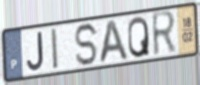A: (97, 18, 131, 66)
I: (50, 26, 60, 72)
J: (26, 30, 46, 73)
Q: (127, 15, 151, 60)
R: (150, 9, 178, 60)
S: (73, 21, 100, 68)
